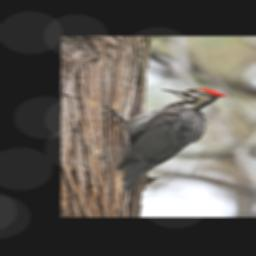Woodpecker: (104, 87, 228, 199)
